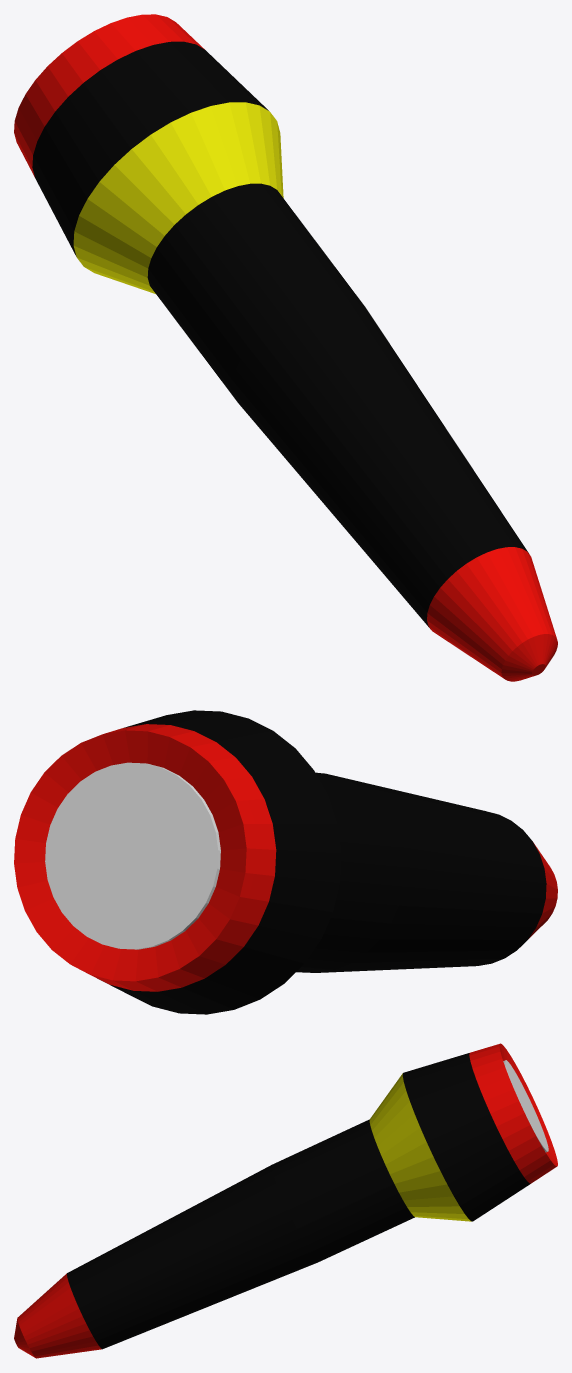
File: Lampe-torche_02.fbx
3 views of the same model, one above another, from view 1: azimuth 30°, elevation 25°; view 2: azimuth 150°, elevation 25°; view 3: azimuth 270°, elevation 25° (orthographic). The views are drawn at different scales.
Visible parts, largest first — view 1: Cylinder; view 2: Cylinder; view 3: Cylinder.
Part boxes in pixels (x1,y1,x2,y2): Cylinder: (14,14,557,681); Cylinder: (14,710,557,1014); Cylinder: (14,1043,557,1358).
Size of the model in its own units: 302 by 585 by 1003.
